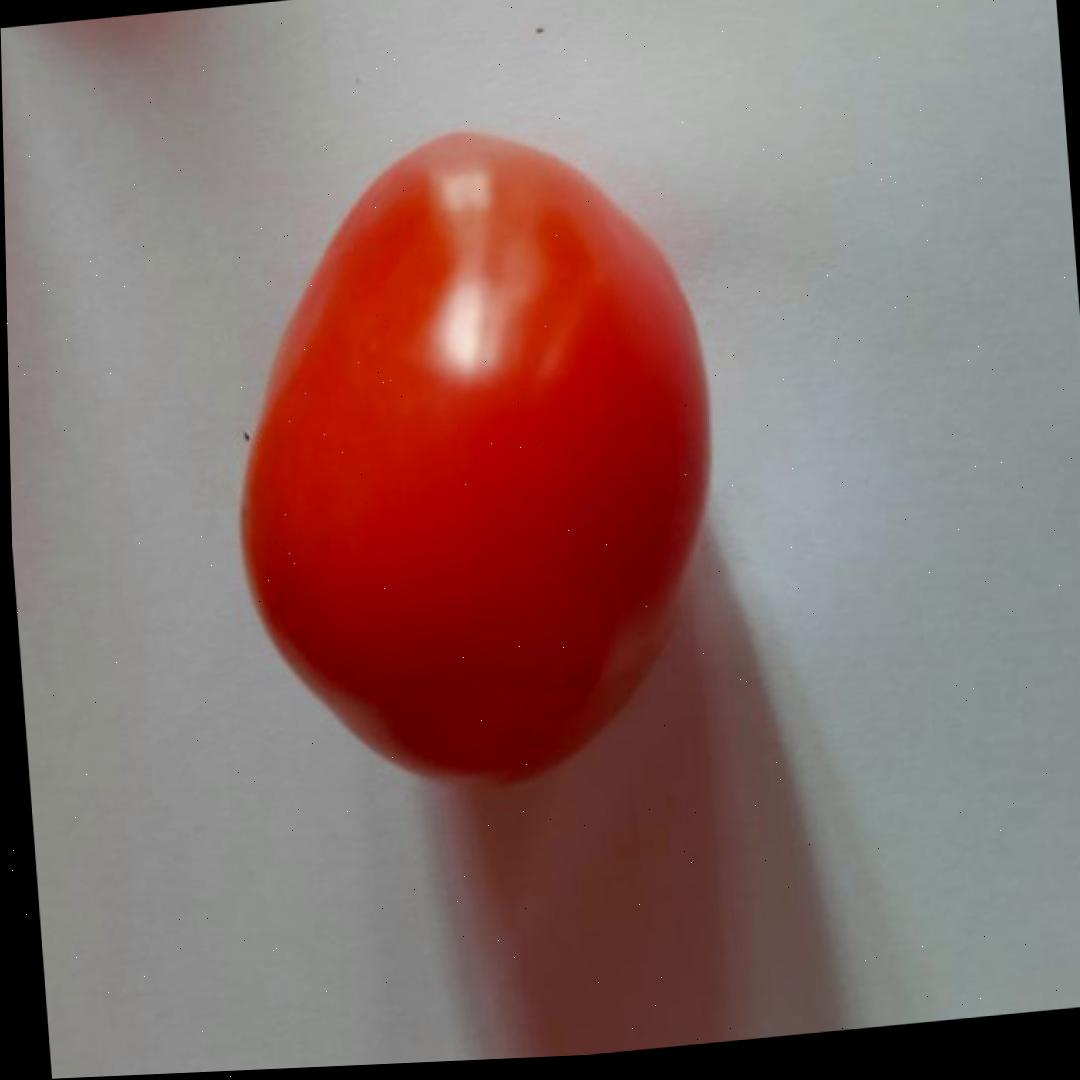matang: (208, 105, 743, 813)
